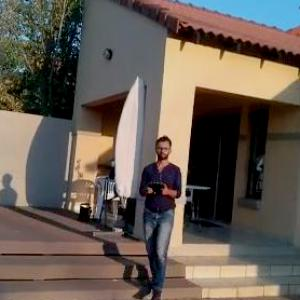follow: (132, 132, 186, 299)
